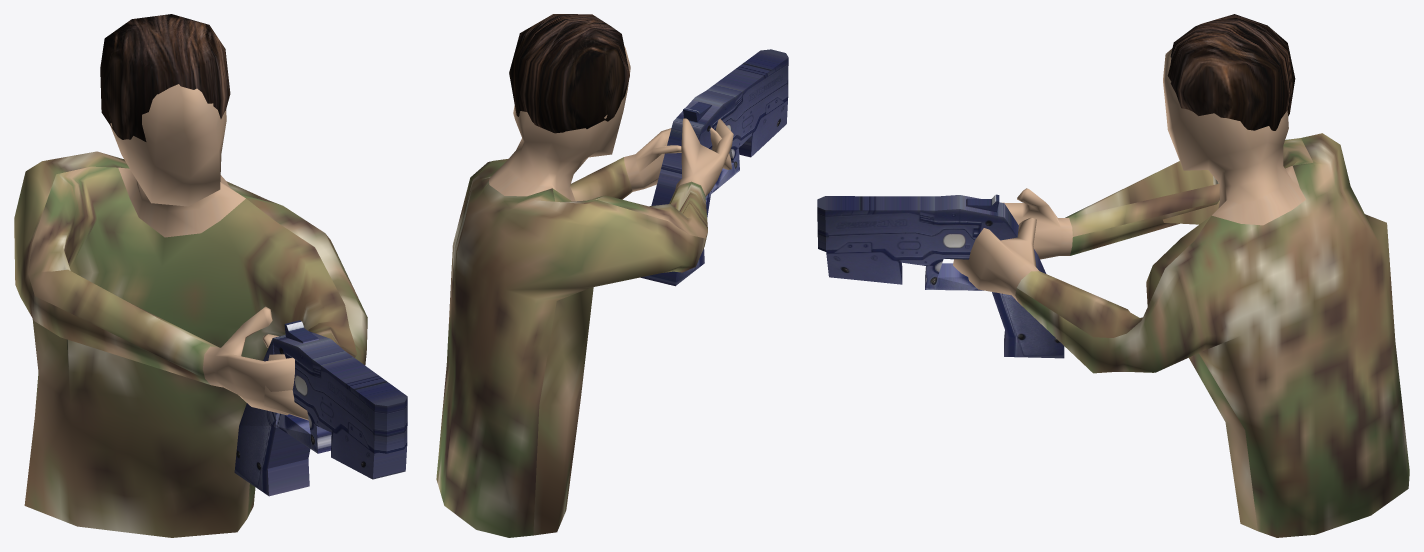
File: Player_gcon.obj
3 renders of one model, left to right at view 1: azimuth 30°, elevation 25°; view 2: azimuth 150°, elevation 25°; view 3: azimuth 270°, elevation 25°, orthographic. The views are drawn at different scales.
Visible parts, largest first — view 1: Plane; view 2: Plane; view 3: Plane.
Part boxes in pixels (x1=…): Plane: x1=14, y1=14, x2=407, y2=537; Plane: x1=436, y1=14, x2=788, y2=537; Plane: x1=817, y1=14, x2=1409, y2=537.
Size of the model in its own units: 0.1402 by 0.2394 by 0.274.
3 materials, 3 textured.
